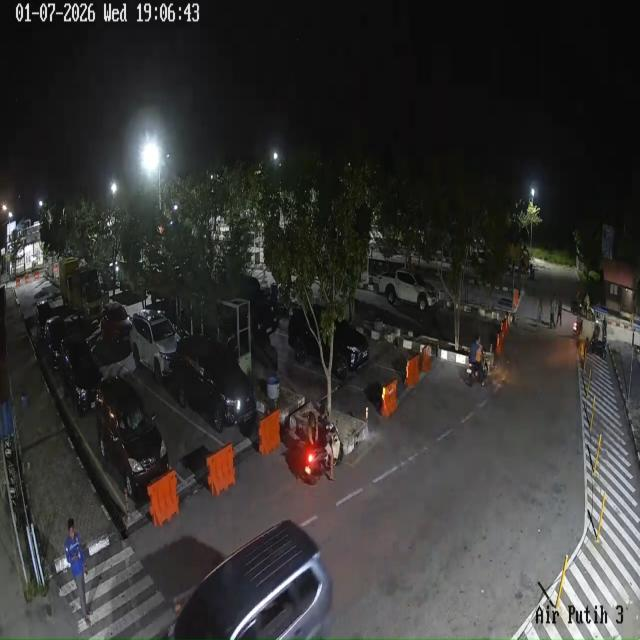Golongan IVA: (96, 376, 170, 498), (173, 334, 257, 432), (287, 304, 368, 380), (129, 309, 180, 383), (61, 335, 102, 415), (43, 316, 68, 369), (101, 301, 131, 345), (36, 300, 52, 337)
Golongan IVB: (378, 270, 440, 311)
Golongan VB: (58, 258, 109, 322)
